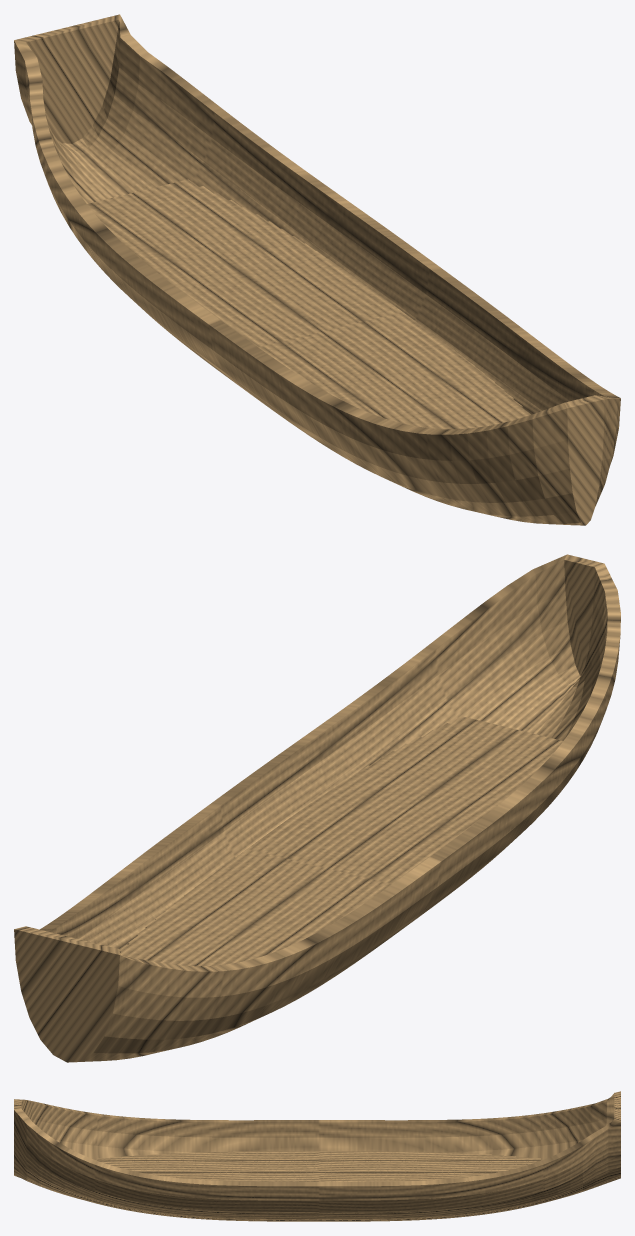
3 views of the same model, one above another, from view 1: azimuth 30°, elevation 25°; view 2: azimuth 150°, elevation 25°; view 3: azimuth 270°, elevation 25° (orthographic). The views are drawn at different scales.
Parts seen in each view (by area): view 1: COL_Hull_shell, COL_Cockpit_sole; view 2: COL_Hull_shell, COL_Cockpit_sole; view 3: COL_Hull_shell, COL_Cockpit_sole.
Boxes of the visible parts, <box> form: COL_Hull_shell: <box>14,14,620,525</box>; COL_Cockpit_sole: <box>87,179,530,429</box>; COL_Hull_shell: <box>14,554,620,1062</box>; COL_Cockpit_sole: <box>119,716,562,966</box>; COL_Hull_shell: <box>14,1091,620,1221</box>; COL_Cockpit_sole: <box>97,1151,540,1181</box>.
Size of the model in its own units: 1.4 by 1.07 by 5.42.
2 materials, 2 textured.
